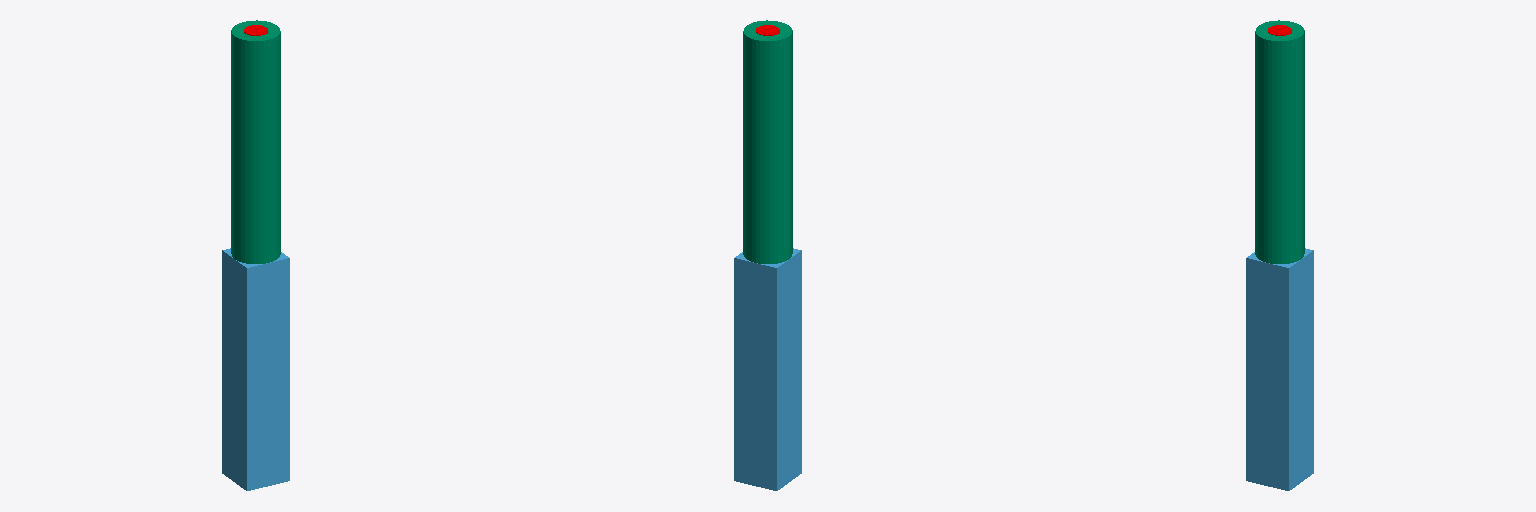
The robot description file, URDF, robot "one_DOF_robot":
<?xml version="1.0"?>
<robot  name="one_DOF_robot">

<!-- Used for fixing robot to Gazebo 'base_link' -->
  <link name="world"/>

  <joint name="glue_robot_to_world" type="fixed">
    <parent link="world"/>
    <child link="link1"/>
  </joint>

 <!-- Base Link -->
  <link name="link1">
    <collision>
      <origin xyz="0 0 0.5" rpy="0 0 0"/>
      <geometry>
       <box size="0.2 0.2 0.7"/>
      </geometry>
    </collision>

    <visual>
      <origin xyz="0 0 0.5" rpy="0 0 0"/>
      <geometry>
        <box size="0.2 0.2 1"/>
      </geometry>
    </visual>

    <inertial>
      <origin xyz="0 0 0.5" rpy="0 0 0"/>
      <mass value="1"/>
      <inertia
        ixx="1.0" ixy="0.0" ixz="0.0"
        iyy="1.0" iyz="0.0"
        izz="1.0"/>
    </inertial>
  </link>

<!-- Moveable Link -->
  <link name="link2">
    <collision>
      <origin xyz="0 0 0.5" rpy="0 0 0"/>
      <geometry>
        <cylinder length="1" radius="0.1"/>
        <!--box size="0.15 0.15 0.8"-->
      </geometry>
    </collision>

    <visual>
      <origin xyz="0 0 0.5" rpy="0 0 0"/>
      <geometry>
        <cylinder length="1" radius="0.1"/>
      </geometry>
    </visual>

    <inertial>
      <origin xyz="0 0 0.5" rpy="0 0 0"/>
      <mass value="1"/>
      <inertia
        ixx="0.1" ixy="0.0" ixz="0.0"
        iyy="0.1" iyz="0.0"
        izz="0.005"/>
    </inertial>
  </link>

  <joint name="joint1" type="prismatic">
    <parent link="link1"/>
    <child link="link2"/>
    <origin xyz="0 0 1" rpy="0 0 0"/>
    <axis xyz="0 0 1"/>
    <limit effort="100.0" lower="-2.0" upper="2.0" velocity="20.0"/>
    <dynamics damping="1.0"/>
  </joint>

  <transmission name="tran1">
    <type>transmission_interface/SimpleTransmission</type>
    <joint name="joint1">
      <hardwareInterface>EffortJointInterface</hardwareInterface>
    </joint>
    <actuator name="motor1">
      <hardwareInterface>EffortJointInterface</hardwareInterface>
      <mechanicalReduction>1</mechanicalReduction>
    </actuator>
  </transmission>
  <gazebo>
     <plugin name="gazebo_ros_control" filename="libgazebo_ros_control.so">
       <robotNamespace>/one_DOF_robot</robotNamespace>
     </plugin>
  </gazebo>


<!--model a f/t sensor; set up a link and a joint -->
  <link name="ft_sensor_link">
      <collision>
          <origin xyz="0 0 0" rpy="0 0 0"/>
          <geometry>
            <cylinder length="0.005" radius="0.05"/>
          </geometry>
      </collision>

      <visual>
          <origin xyz="0 0 0" rpy="0 0 0" />
          <geometry>
              <cylinder length="0.005" radius="0.05"/>
          </geometry>
          <material name="ft_sensor_color">
              <color rgba="1 0 0 1.0"/>
          </material>
      </visual>

      <inertial>
          <mass value="0.01" />
          <origin xyz="0 0 0" rpy="0 0 0"/>
          <inertia ixx="0.01" ixy="0" ixz="0" iyy="0.01" iyz="0" izz="0.01" />
      </inertial>
  </link>
  
  <joint name="ft_sensor_jnt" type="fixed">
    <parent link="link2"/>
    <child link="ft_sensor_link"/>
    <origin xyz="0 0 1" rpy="0 0 0"/>
    <axis xyz="0 0 1"/>
  </joint>


<!-- Enable the Joint Feedback -->
<gazebo reference="ft_sensor_jnt">
<provideFeedback>true</provideFeedback>
</gazebo>
<!-- The ft_sensor plugin -->
<gazebo>
<plugin name="ft_sensor" filename="libgazebo_ros_ft_sensor.so">
<updateRate>1000.0</updateRate>
<topicName>ft_sensor_topic</topicName>
<jointName>ft_sensor_jnt</jointName>
</plugin>
</gazebo>
  
</robot>

--- Facts derived from the render (not from the file) ---
3 views of the same robot in one strip: view 1: azimuth 30°, elevation 25°; view 2: azimuth 150°, elevation 25°; view 3: azimuth 330°, elevation 25° (orthographic).
Model one_DOF_robot with 4 links and 3 joints (1 prismatic, 2 fixed), rooted at world, posed all joints at 0.
Visible links, largest first — view 1: link1, link2; view 2: link1, link2; view 3: link1, link2.
Boxes of the visible links, x1=… form: link1: x1=222, y1=248, x2=289, y2=490; link2: x1=231, y1=20, x2=280, y2=263; link1: x1=734, y1=248, x2=801, y2=490; link2: x1=743, y1=20, x2=792, y2=263; link1: x1=1246, y1=248, x2=1313, y2=490; link2: x1=1255, y1=20, x2=1304, y2=263.
Bounding box of the posed robot: 0.2 × 0.2 × 2 m (x, y, z).
Geometry: primitives only (box / cylinder / sphere), no mesh files.
